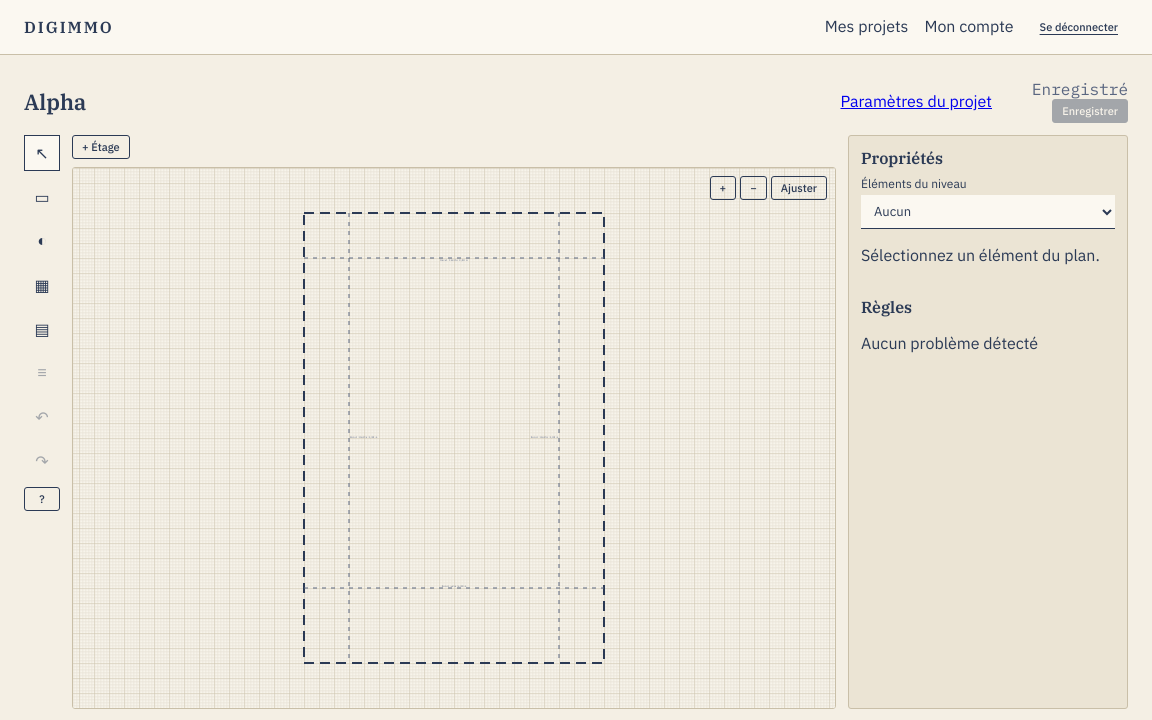
Test: sauvegarde automatique › 404 : « Ce projet n'existe plus. » sans nouvel essai
Expected: the picture named "Plan du projet" is shown, x1=73 y1=168 x2=835 y2=708
Click the button "+ Étage": [101, 147] box x1=72 y1=135 x2=130 y2=159
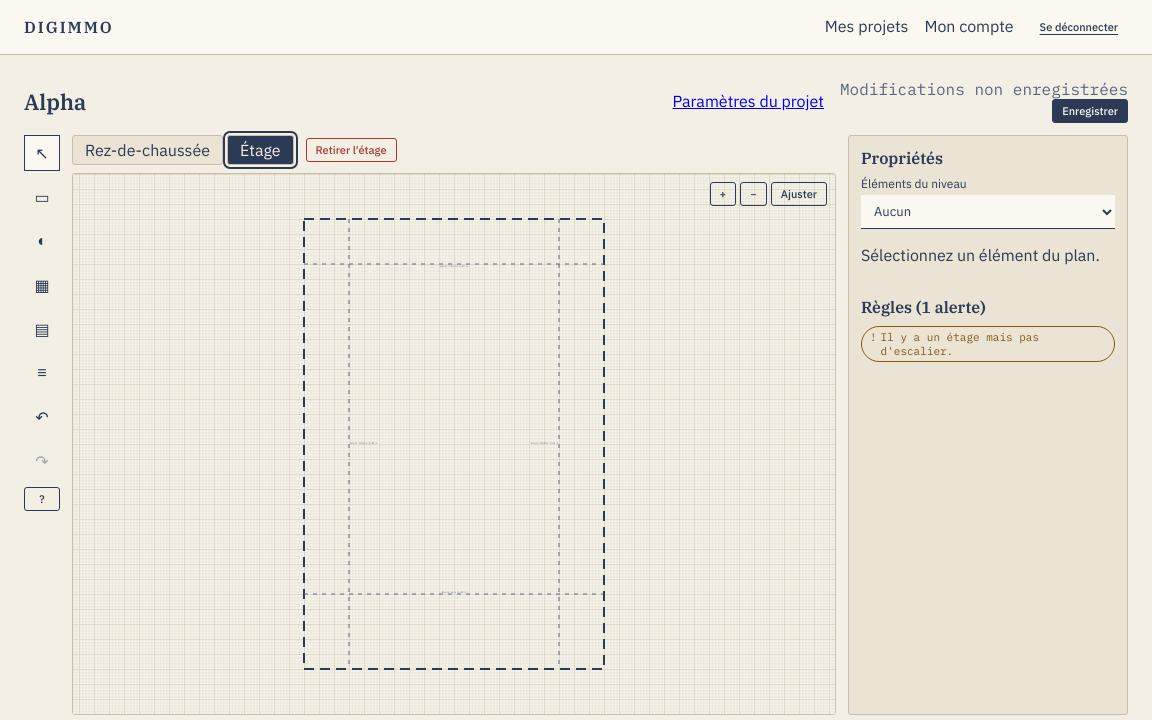
Click the button "Enregistrer": [1090, 111] box x1=1052 y1=99 x2=1128 y2=123
Wait 30000 ms
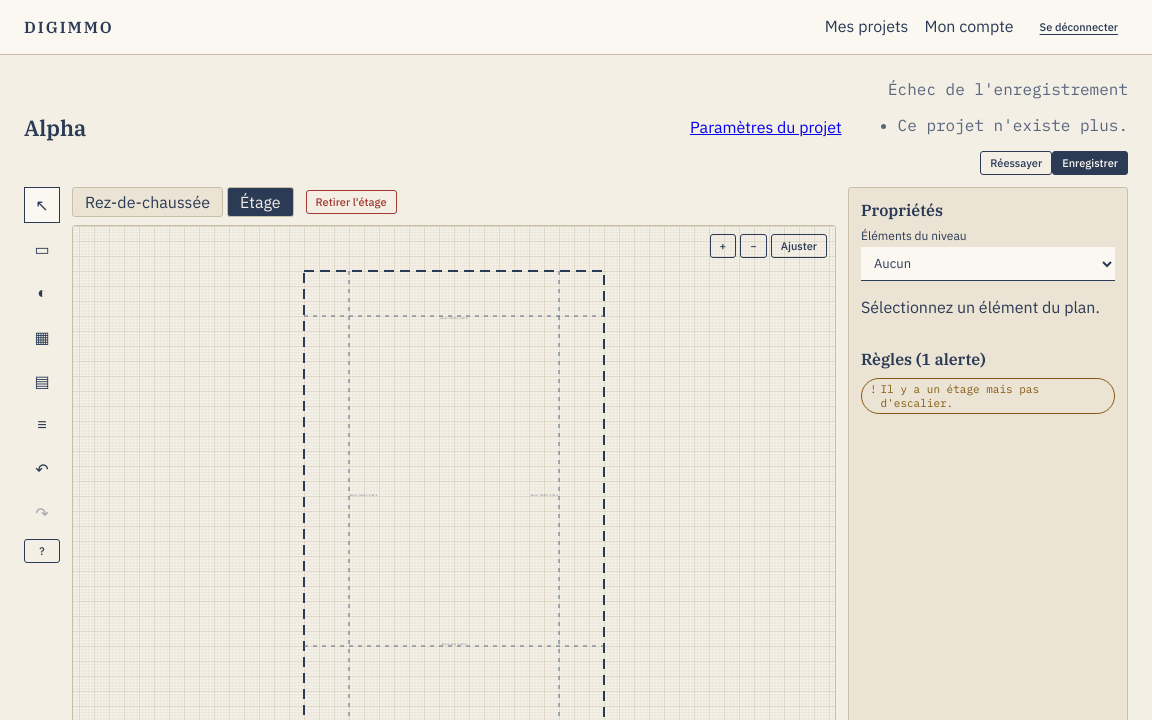
Result: the list item "Ce projet n'existe plus." is shown at x1=898 y1=115 x2=1128 y2=135
